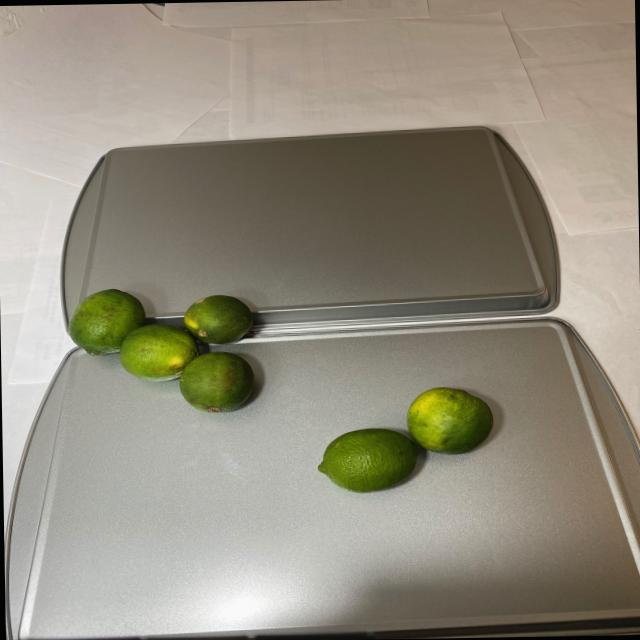lemon: (63, 283, 259, 417), (308, 384, 502, 504)
